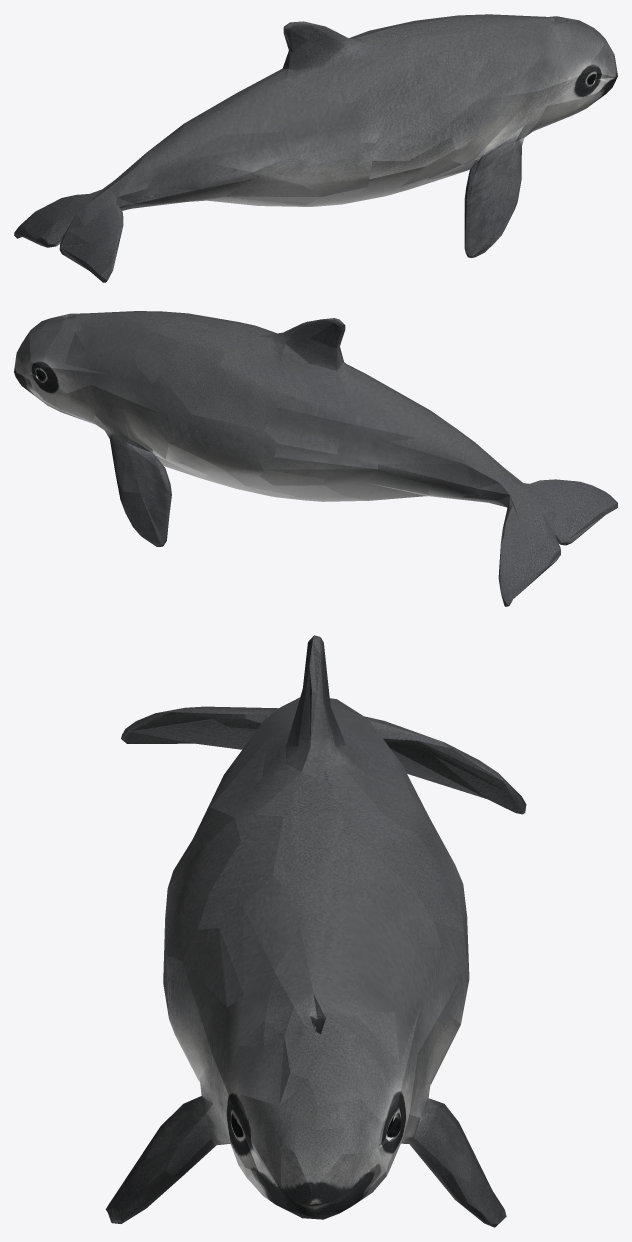
File: vacamarina.fbx
3 renders of one model, top to bottom at view 1: azimuth 30°, elevation 25°; view 2: azimuth 150°, elevation 25°; view 3: azimuth 270°, elevation 25°, orthographic. The views are drawn at different scales.
Parts seen in each view (by area): view 1: vacamarina; view 2: vacamarina; view 3: vacamarina.
Part boxes in pixels (left/top/right/bottom): vacamarina: left=14, top=14, right=617, bottom=282; vacamarina: left=14, top=311, right=617, bottom=606; vacamarina: left=105, top=635, right=526, bottom=1227.
Size of the model in its own units: 1.5 by 0.5853 by 0.4917.
Materials: 1 (1 with a texture image).
